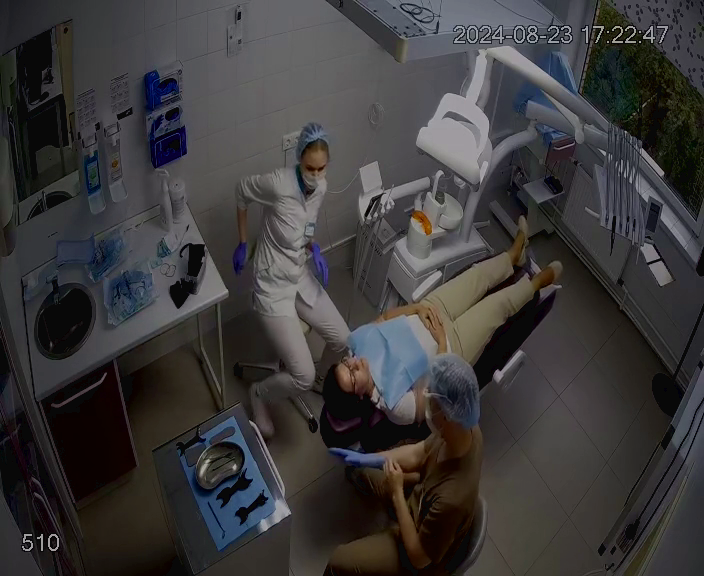Patient: (317, 213, 563, 453)
